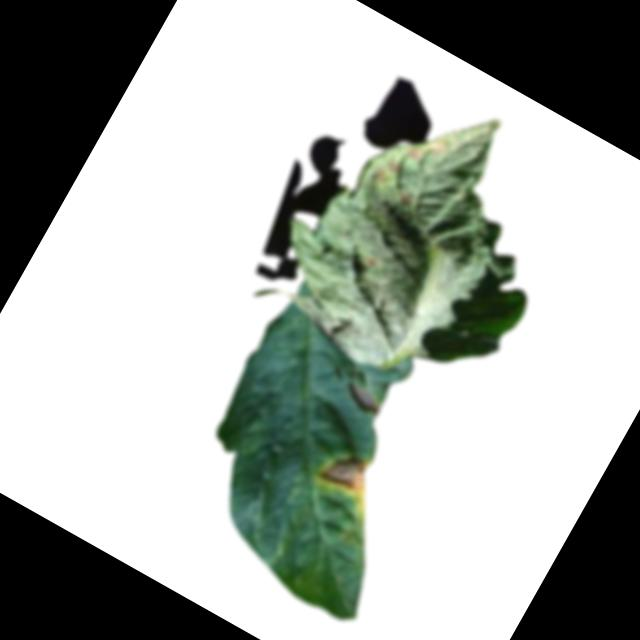Early_blight: (318, 443, 381, 501), (396, 188, 418, 207), (383, 155, 402, 175), (404, 143, 423, 162), (371, 163, 389, 180)
